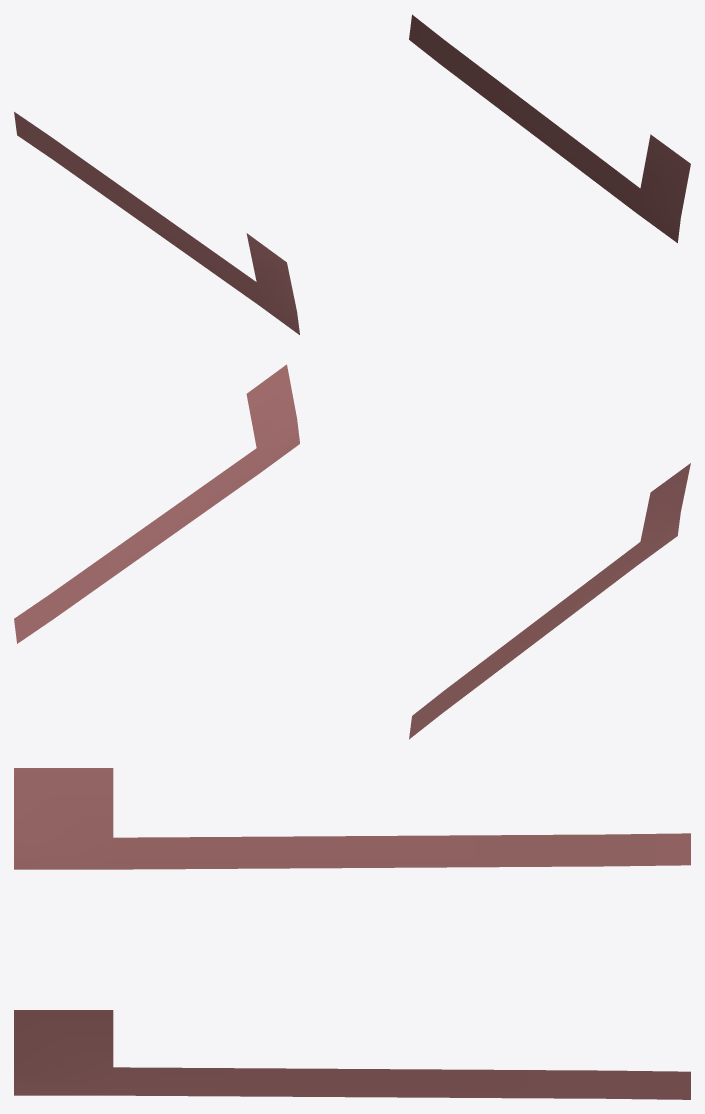
The model's file is MX5_SideSkirt03_Trim.fbx.
The picture shows the model from 3 angles, top to bottom: view 1: azimuth 30°, elevation 25°; view 2: azimuth 150°, elevation 25°; view 3: azimuth 270°, elevation 25°; orthographic projection. The views are drawn at different scales.
Parts seen in each view (by area): view 1: MX5_SideSkirt03_Trim; view 2: MX5_SideSkirt03_Trim; view 3: MX5_SideSkirt03_Trim.
Boxes of the visible parts, bbox=[...] form: MX5_SideSkirt03_Trim: bbox=[14, 14, 690, 334]; MX5_SideSkirt03_Trim: bbox=[14, 364, 690, 739]; MX5_SideSkirt03_Trim: bbox=[14, 768, 690, 1099].
Bounding box in the file's own units: 146 × 26.39 × 173.
